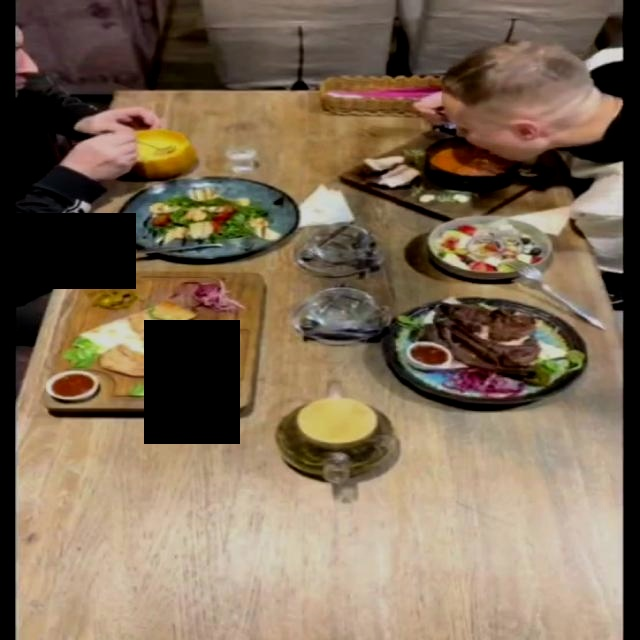meat: (40, 263, 274, 420), (378, 295, 589, 405)
salad: (113, 176, 296, 260), (425, 213, 554, 278)
soup: (337, 130, 566, 220), (123, 129, 197, 178)
tea: (273, 393, 396, 481)
